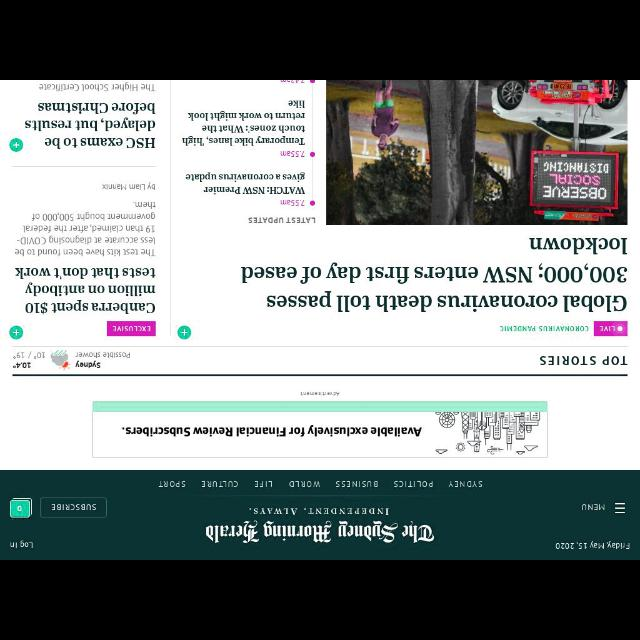button: (9, 326, 25, 340), (178, 326, 192, 340), (9, 138, 21, 150)
icon: (614, 502, 626, 514), (616, 326, 624, 334)
iframe: (91, 388, 548, 458)
image: (327, 82, 627, 225), (204, 522, 436, 546), (11, 372, 630, 380), (8, 496, 34, 518), (48, 350, 74, 368)
text: (240, 240, 628, 314), (15, 202, 156, 254), (22, 100, 158, 150), (17, 270, 154, 314), (182, 102, 304, 144), (184, 172, 306, 195), (37, 84, 156, 96), (252, 508, 394, 516), (540, 354, 626, 366), (9, 350, 49, 370), (554, 540, 632, 550), (249, 216, 317, 224), (498, 326, 588, 332), (102, 182, 156, 192), (392, 478, 433, 489), (76, 351, 132, 359), (449, 479, 486, 489), (334, 480, 378, 488), (200, 480, 240, 488), (8, 542, 34, 552), (280, 149, 306, 159), (290, 481, 320, 489), (76, 359, 100, 368), (582, 503, 604, 512), (281, 199, 303, 207), (160, 482, 184, 488), (254, 481, 274, 487), (600, 326, 618, 332)
textbutton: (40, 497, 106, 518)
toolbar: (1, 470, 639, 558)
